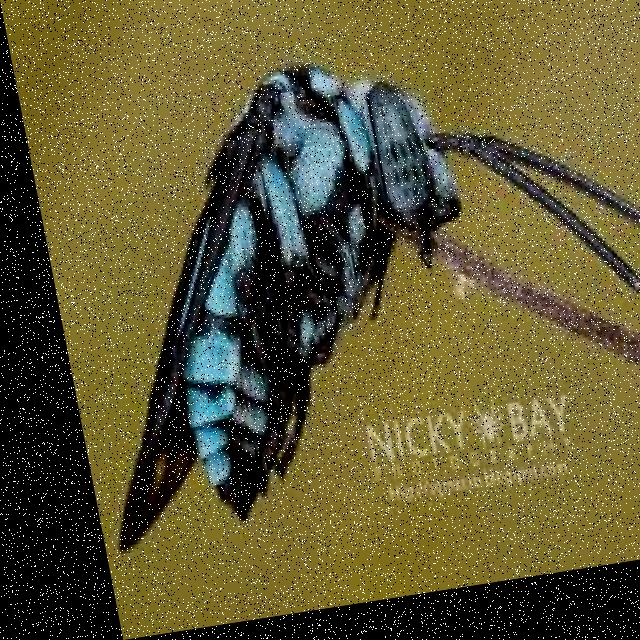Thyreus: (47, 35, 619, 585)
